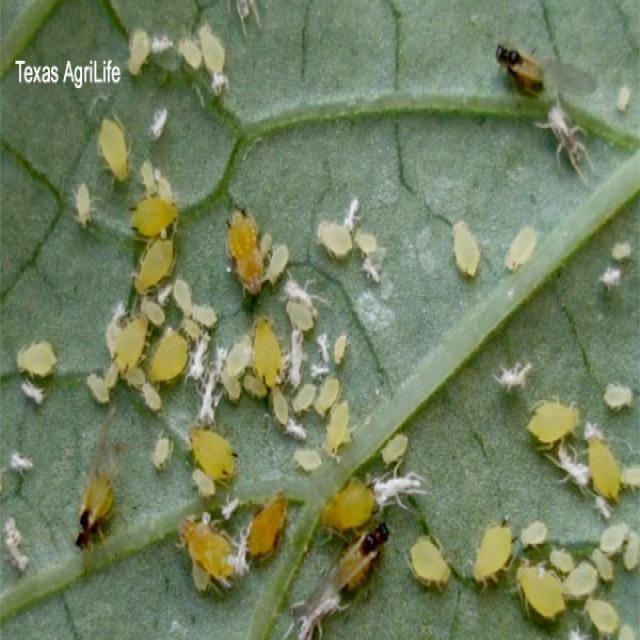Aphids: (72, 146, 422, 610), (403, 516, 640, 636), (526, 382, 634, 508), (439, 199, 542, 290), (122, 23, 244, 96), (309, 201, 384, 281), (85, 110, 139, 194), (12, 327, 70, 388), (71, 178, 96, 229)
